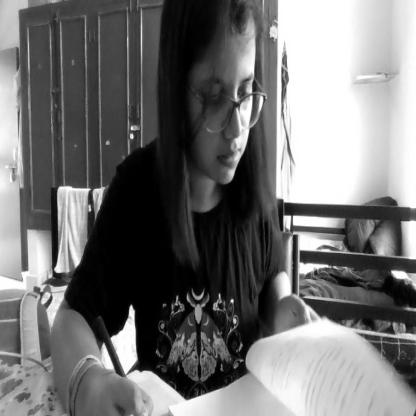Distracted: (168, 1, 263, 197)
